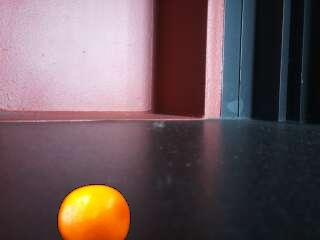Orange: (57, 185, 131, 240)
